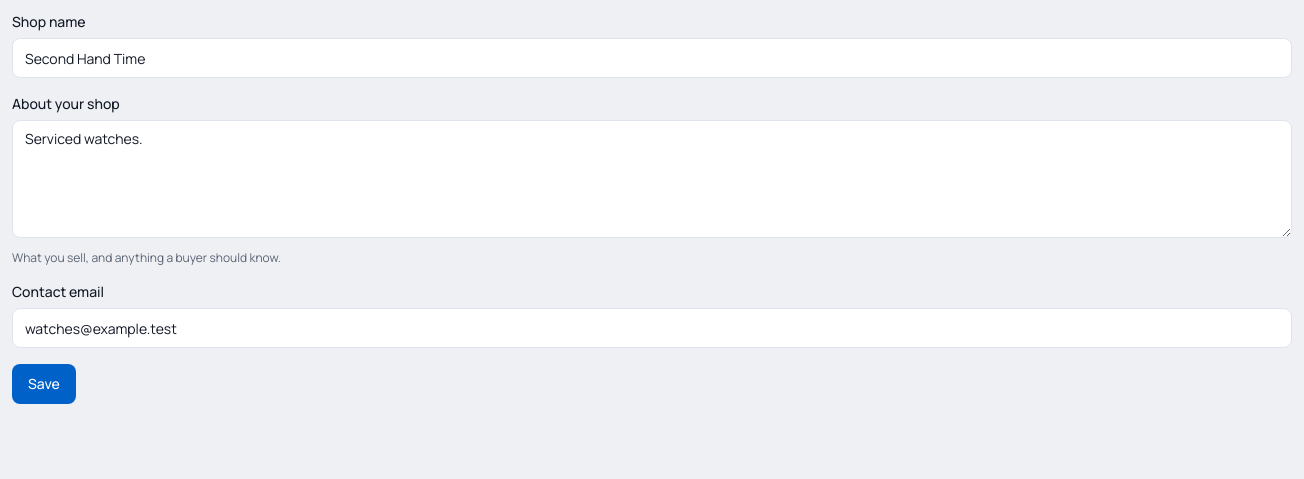
ShopDetailsForm › saves what is on screen and redraws the page
The image size is (1304, 479).
Replace the text in the field labelled "Shop name" with "Second Hand Time & Co". click: (652, 58)
box: left=12, top=38, right=1292, bottom=78
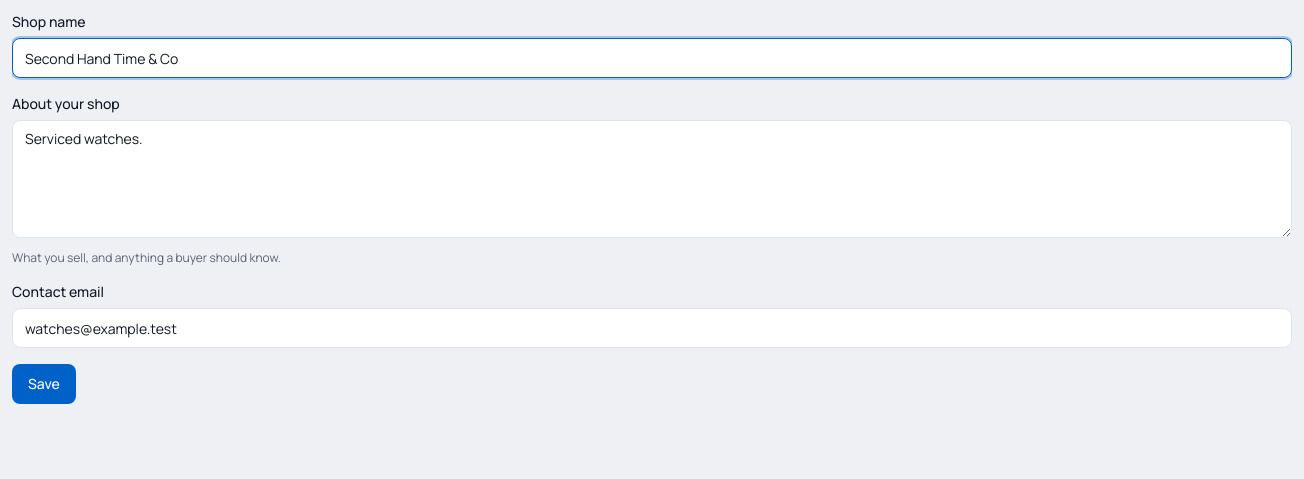
Click the button "Save". click: (44, 384)
box: left=12, top=364, right=76, bottom=404
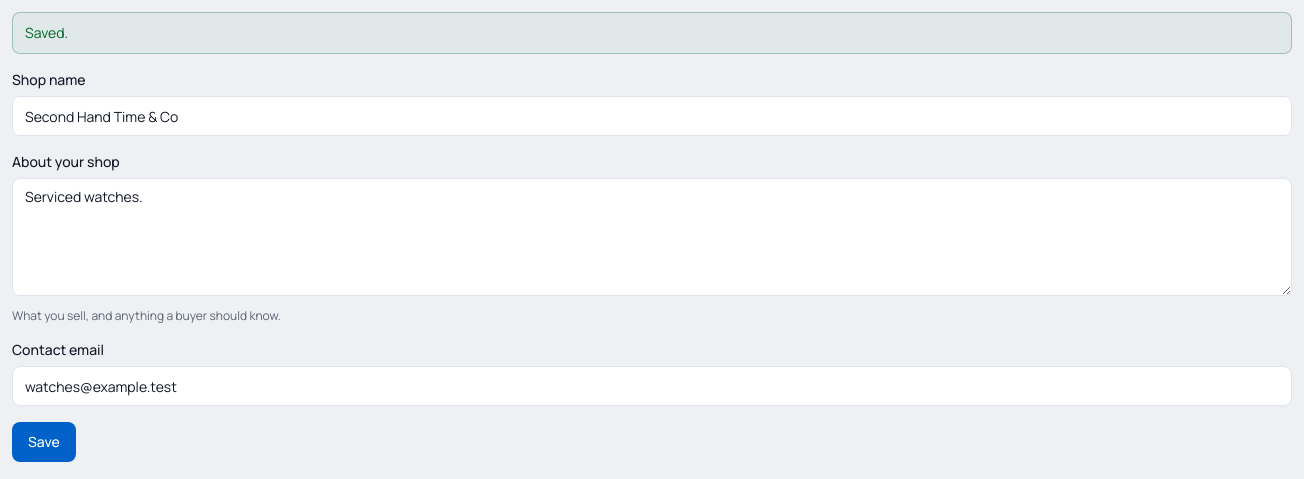
Expected: the text "Saved." is shown, left=12, top=12, right=1292, bottom=54
